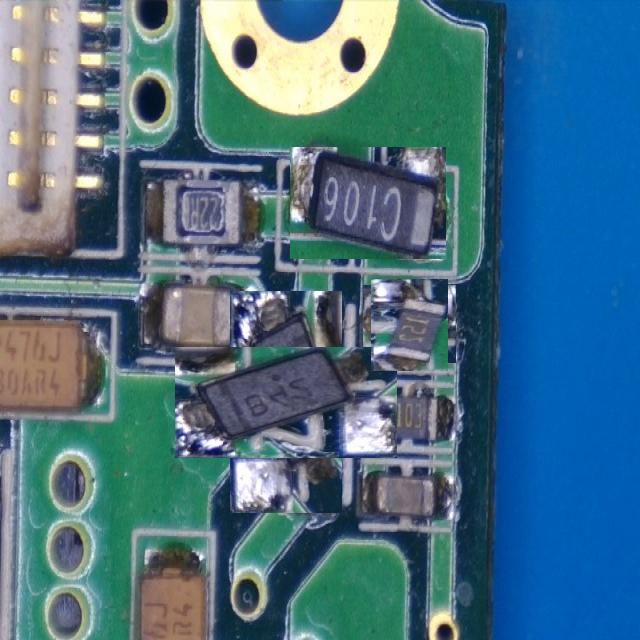Incorrect_installation: (176, 347, 397, 458), (290, 147, 446, 257), (372, 278, 448, 371)
